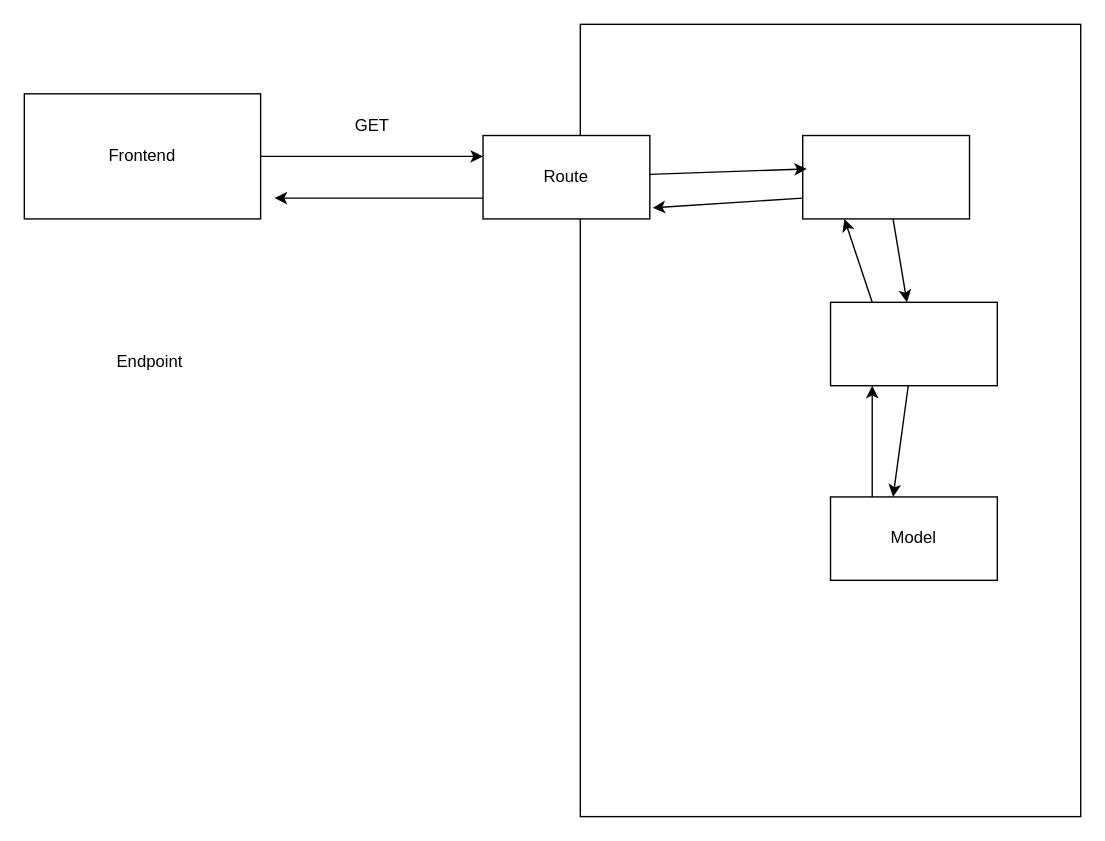
Image size: 1105x841. Some labels were removed from this diagram. Each missing label, with the centre of its shape:
Controller: the point at 885,176
Service Logic: the point at 913,343
